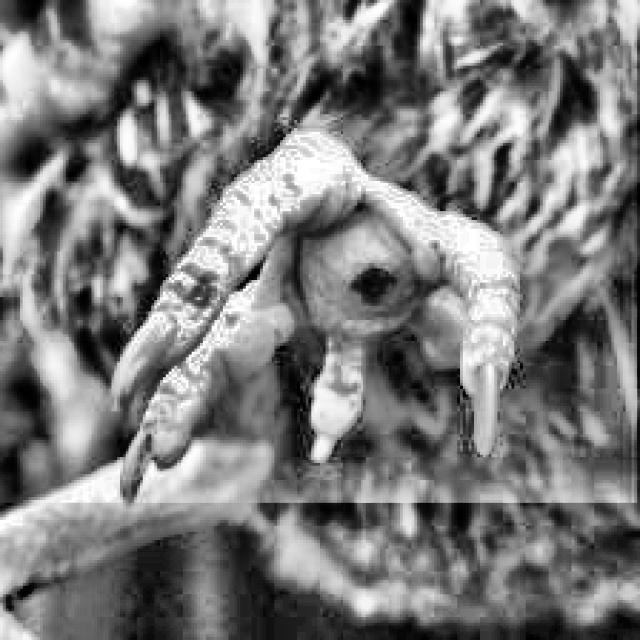Bumble foot: (106, 123, 523, 503)
